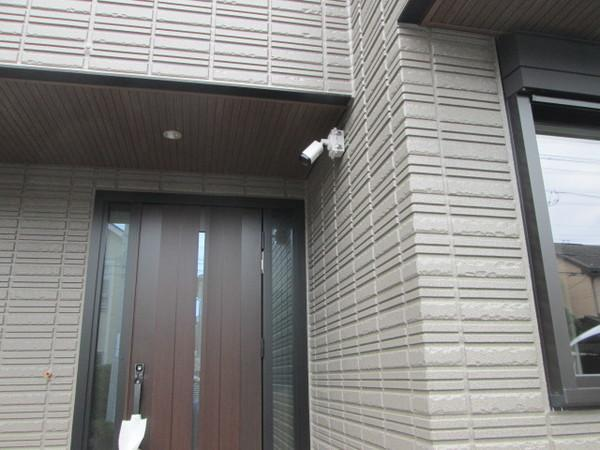tutu: (296, 129, 344, 174)
